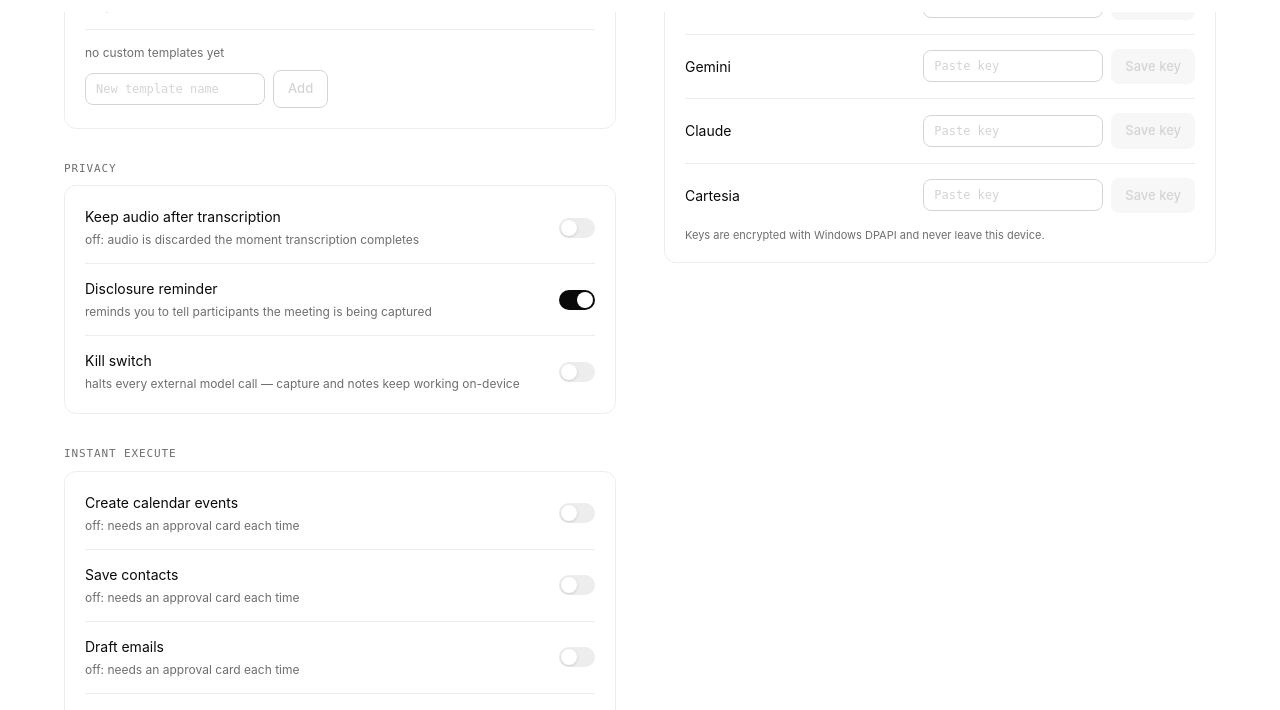
Test: privacy controls wired to settings.update › kill switch persists and the engaged state discloses in the router card
The width and height of the screenshot is (1280, 710).
(page scrolled)
expect the text "Kill switch engaged" is not shown: met
Click the switch named "Kill switch". click: {"x": 577, "y": 372}
box: 559,362 -> 595,382
(page scrolled)
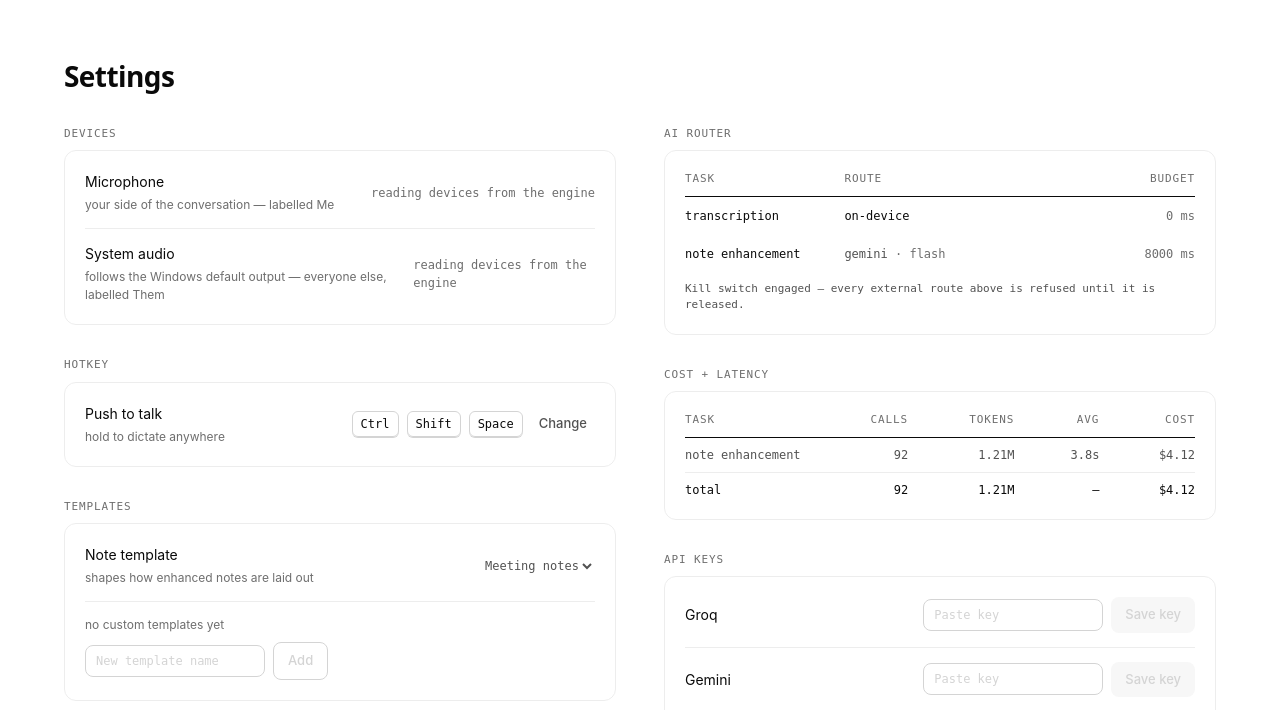
expect the text "every external route above is refused" is shown: met, box 685,282 -> 1155,311
